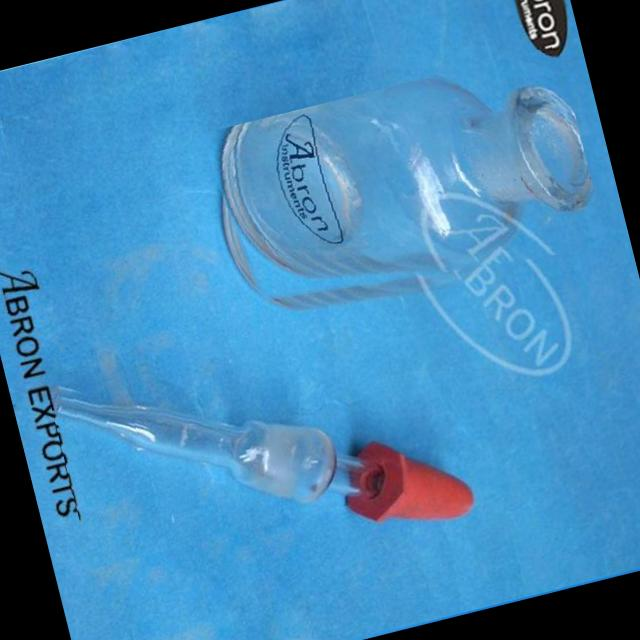Glass: (195, 44, 607, 338), (45, 312, 388, 569)
